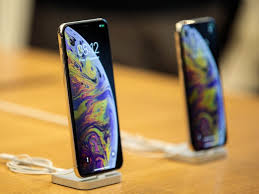iphone: (50, 15, 126, 178), (174, 13, 233, 151)
iphone10: (51, 16, 127, 179), (174, 13, 233, 151)
